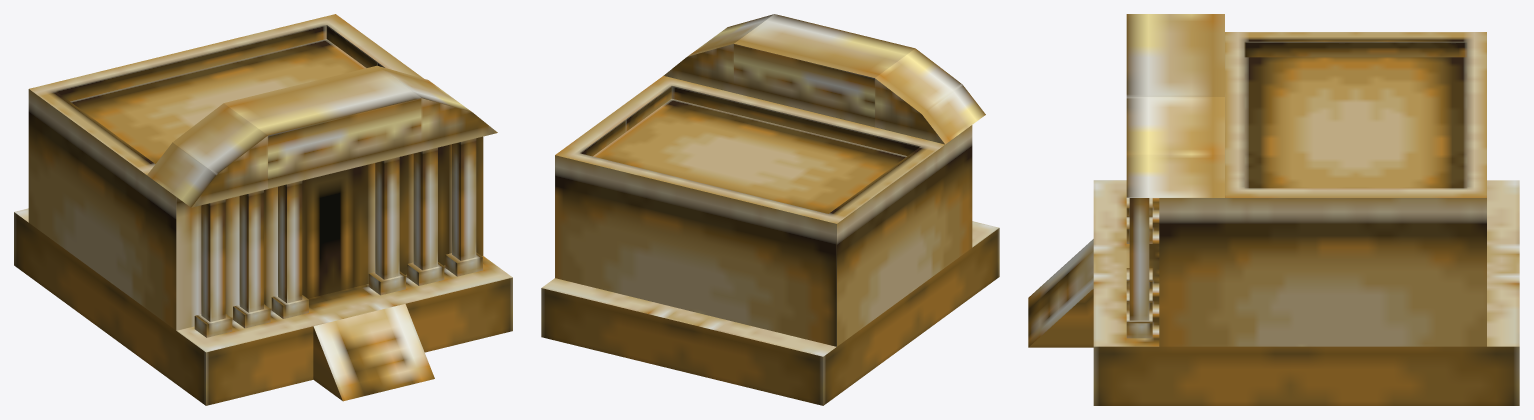
The model's file is Poly_World_Map_Ancient_Building_02_A.obj.
The picture shows the model from 3 angles, left to right: view 1: azimuth 30°, elevation 25°; view 2: azimuth 150°, elevation 25°; view 3: azimuth 270°, elevation 25°; orthographic projection. The views are drawn at different scales.
Visible parts, largest first — view 1: Cube, Cube.001, Cube.004, Cube.002, Cube.003; view 2: Cube, Cube.004, Cube.001; view 3: Cube, Cube.004, Cube.001, Cube.003, Cube.002.
Boxes of the visible parts, <box> form: Cube: <box>14,65,497,330</box>; Cube.001: <box>14,212,512,405</box>; Cube.004: <box>29,14,423,174</box>; Cube.002: <box>194,138,482,337</box>; Cube.003: <box>177,256,512,352</box>; Cube: <box>542,14,985,356</box>; Cube.004: <box>555,76,944,223</box>; Cube.001: <box>541,228,999,405</box>; Cube: <box>1126,14,1519,346</box>; Cube.004: <box>1225,32,1486,197</box>; Cube.001: <box>1028,239,1519,405</box>; Cube.003: <box>1093,180,1159,346</box>; Cube.002: <box>1126,198,1152,338</box>.
Bounding box in the file's own units: 1.2 × 0.9 × 1.5.
Materials: 1 (1 with a texture image).
